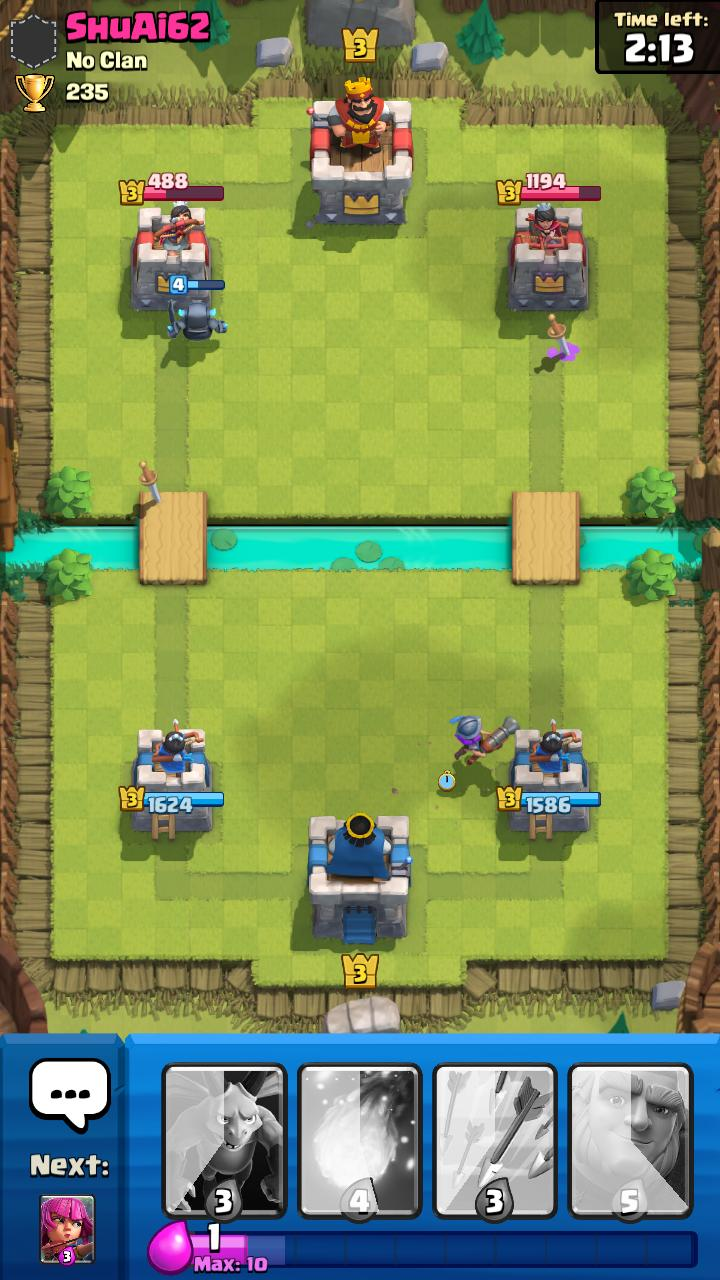ally: (167, 275, 228, 341), (449, 716, 521, 766)
